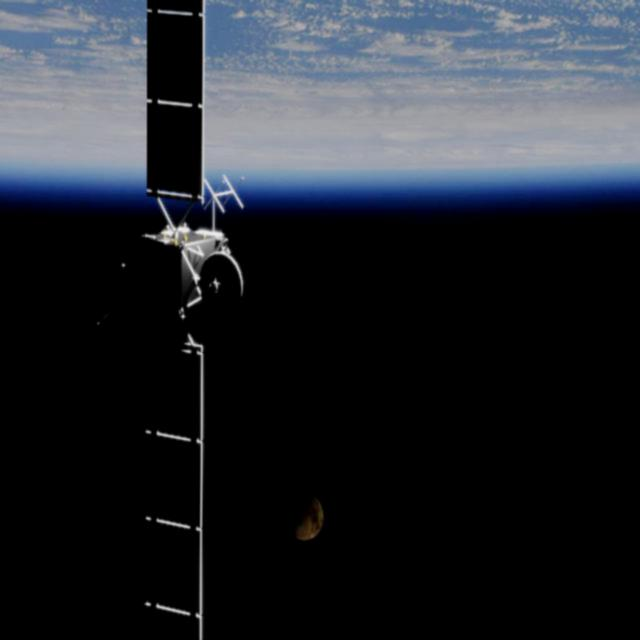satellite: (115, 3, 262, 640)
